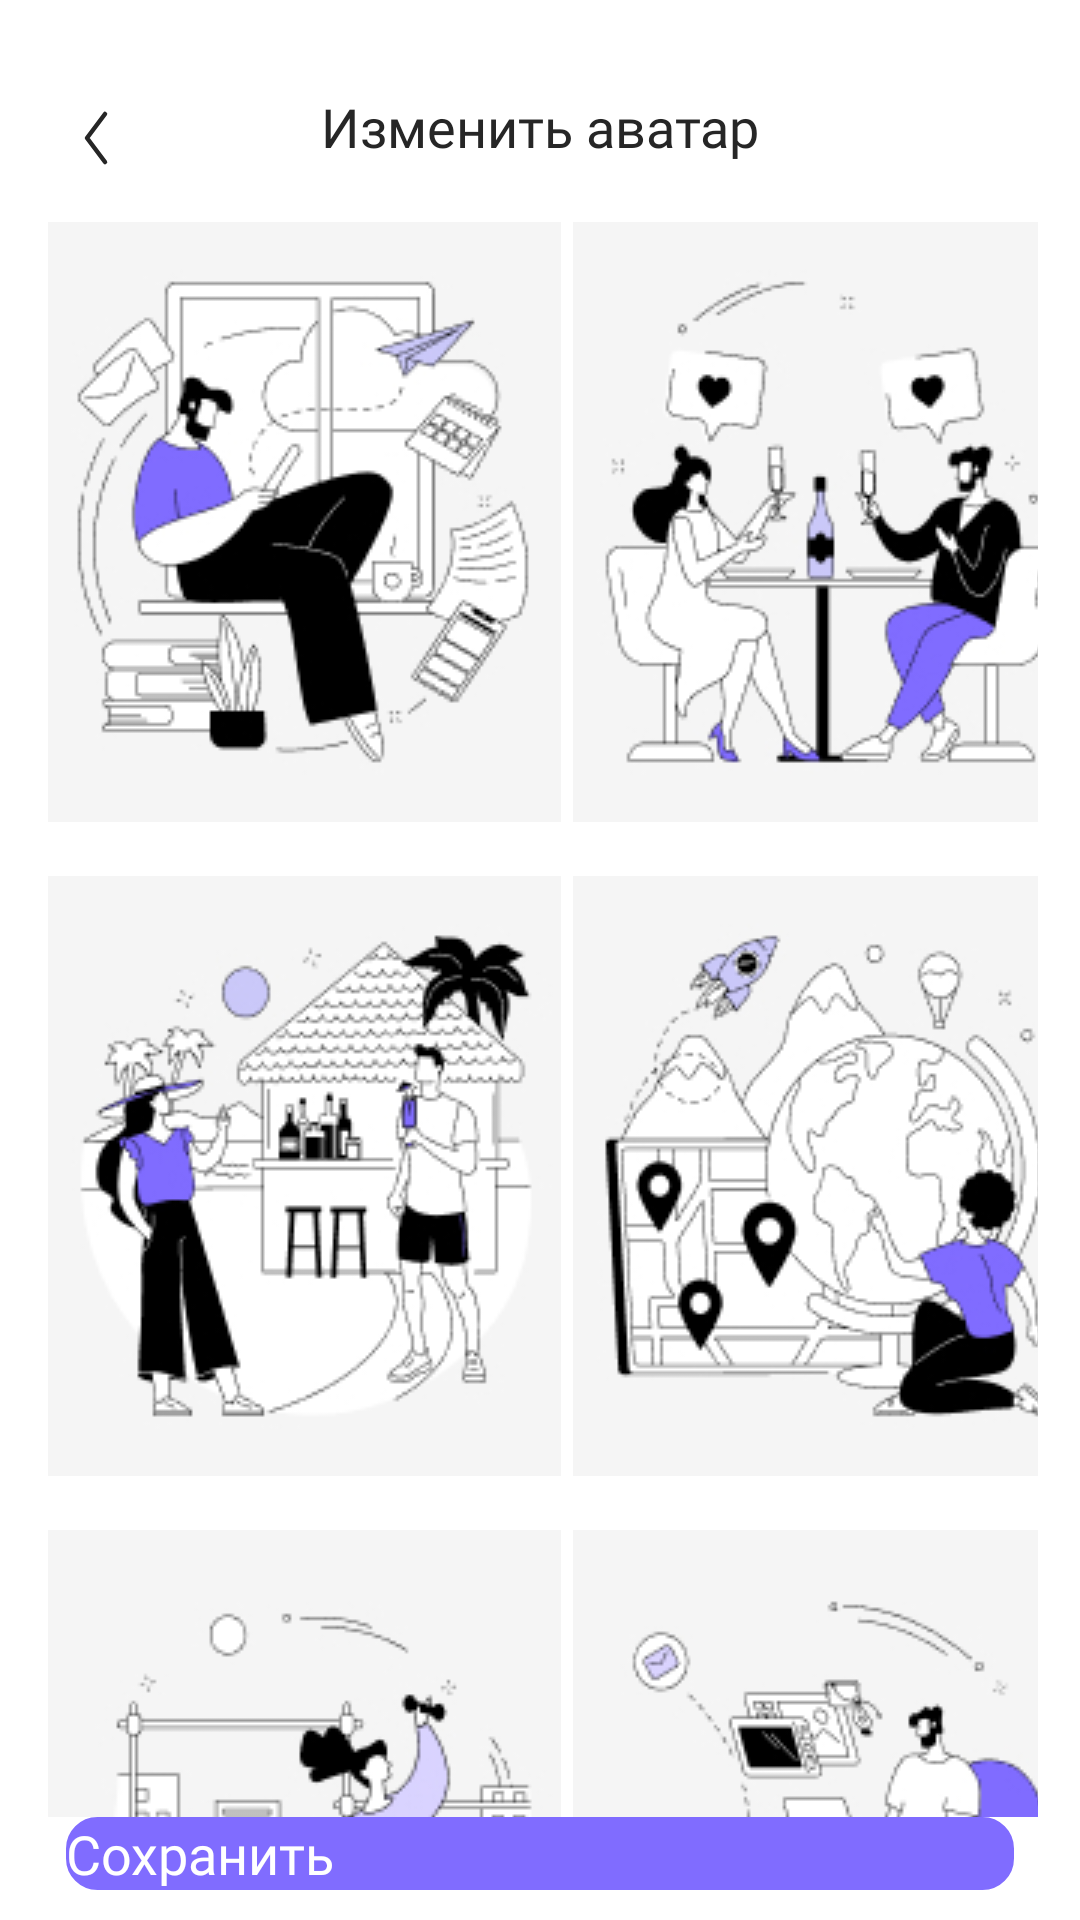

Named icons in this screenshot (1080x1920) and their centers, [x,y]:
back: [96,138]
